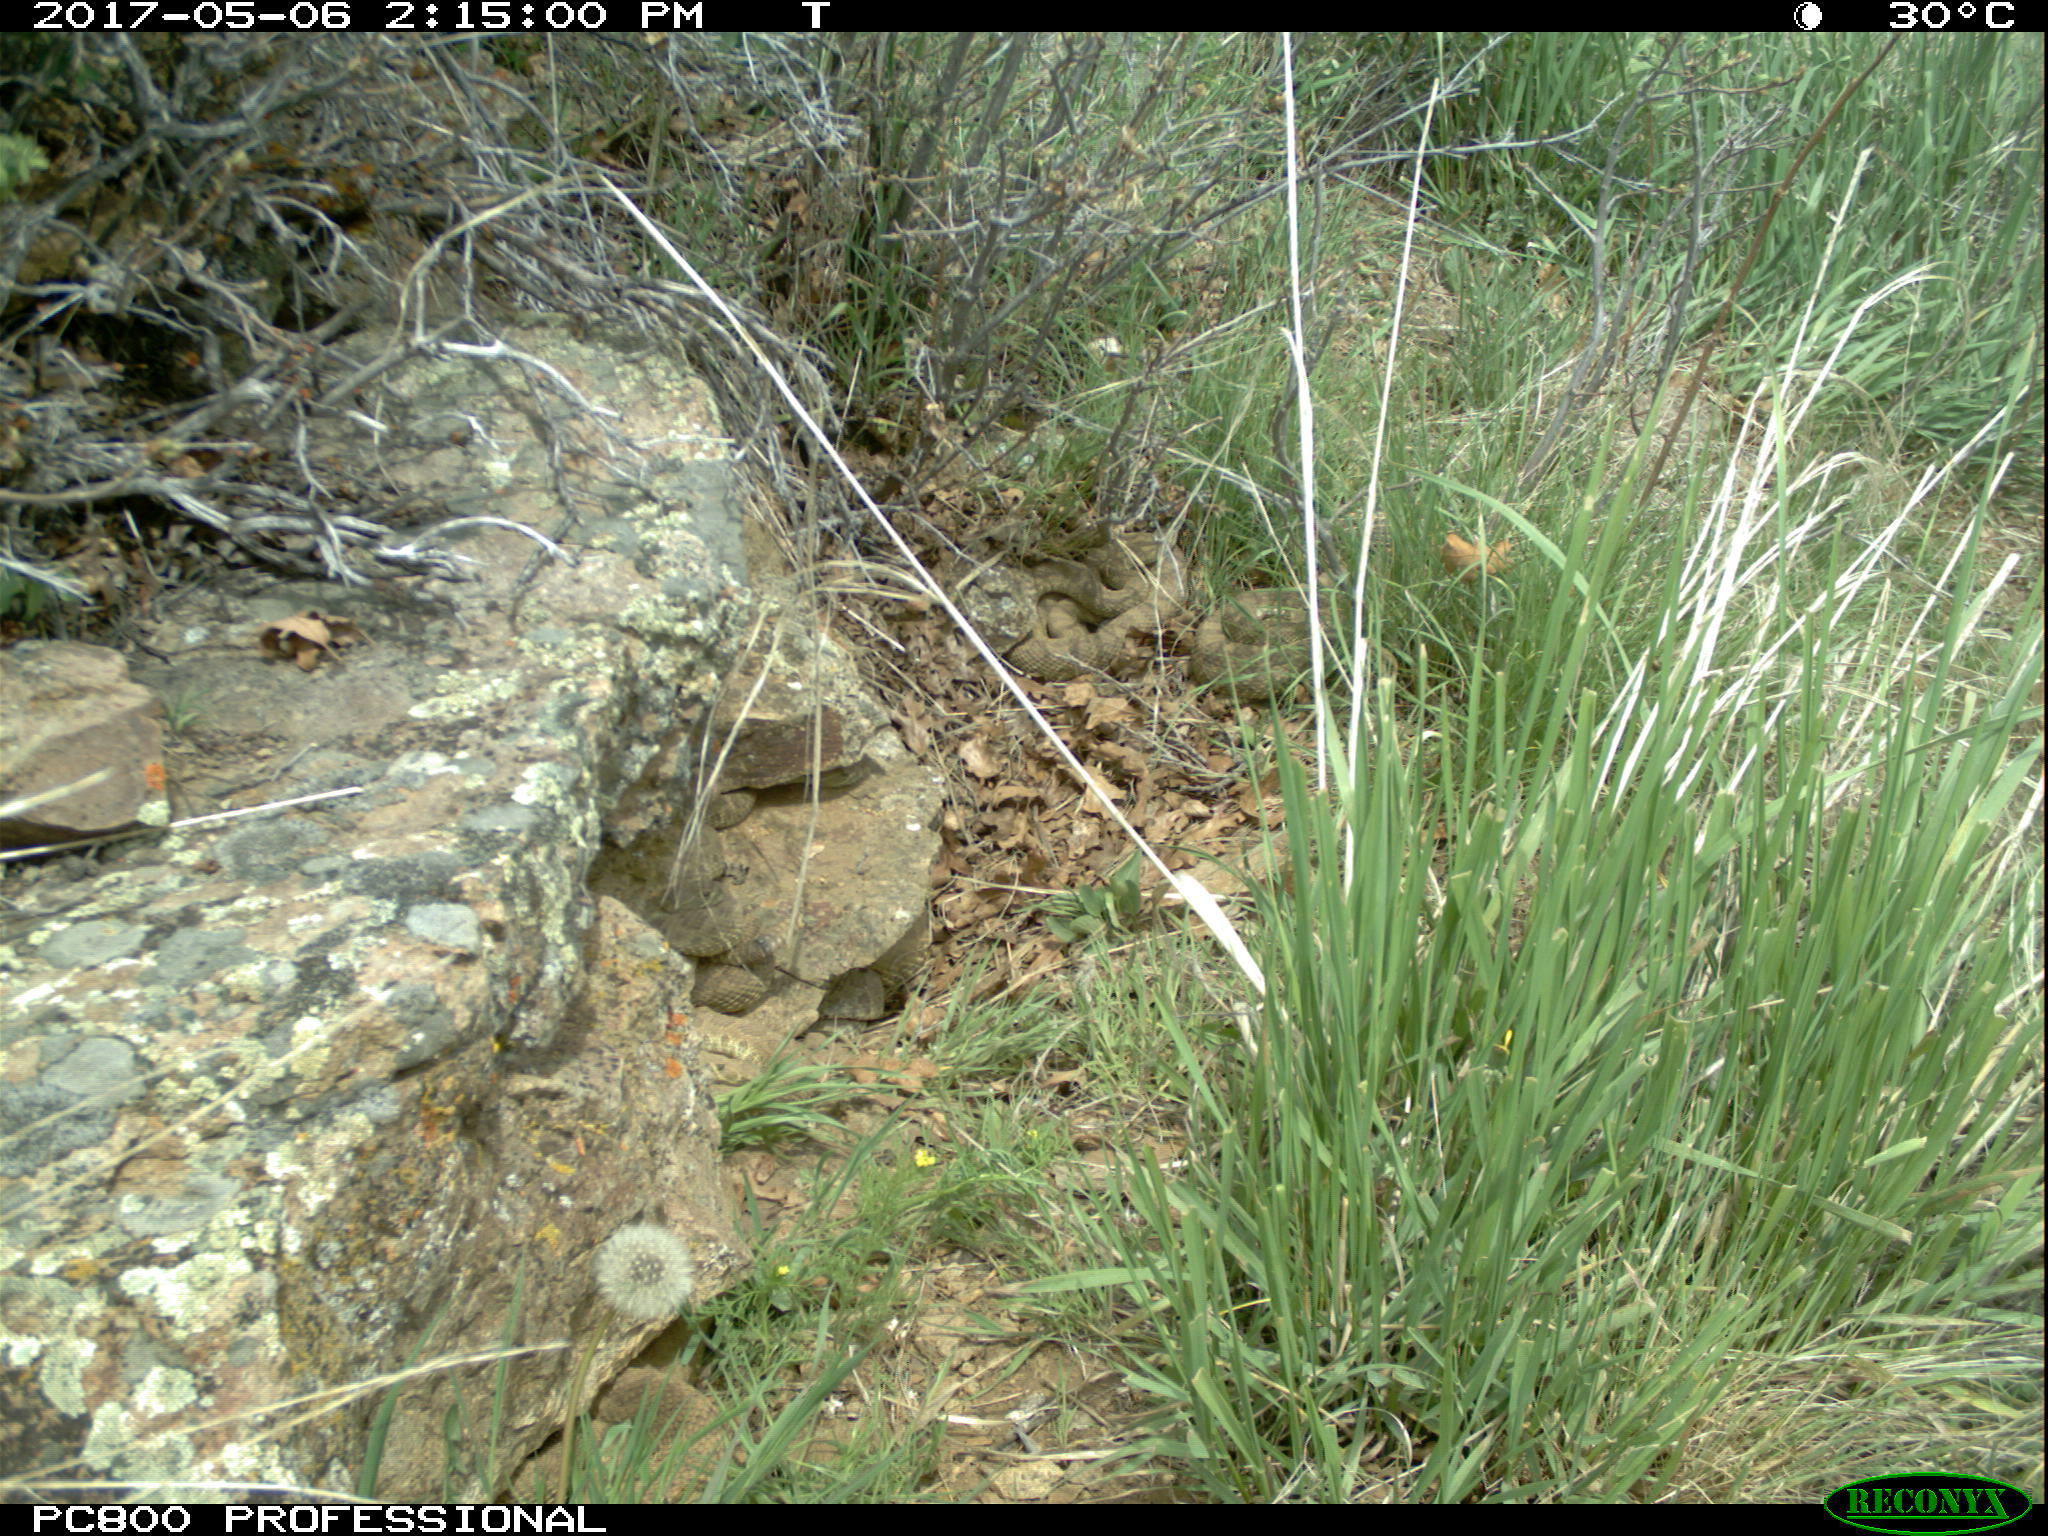snake: (640, 874, 940, 1031), (508, 1367, 731, 1501), (1008, 526, 1192, 678), (1193, 586, 1359, 707)
